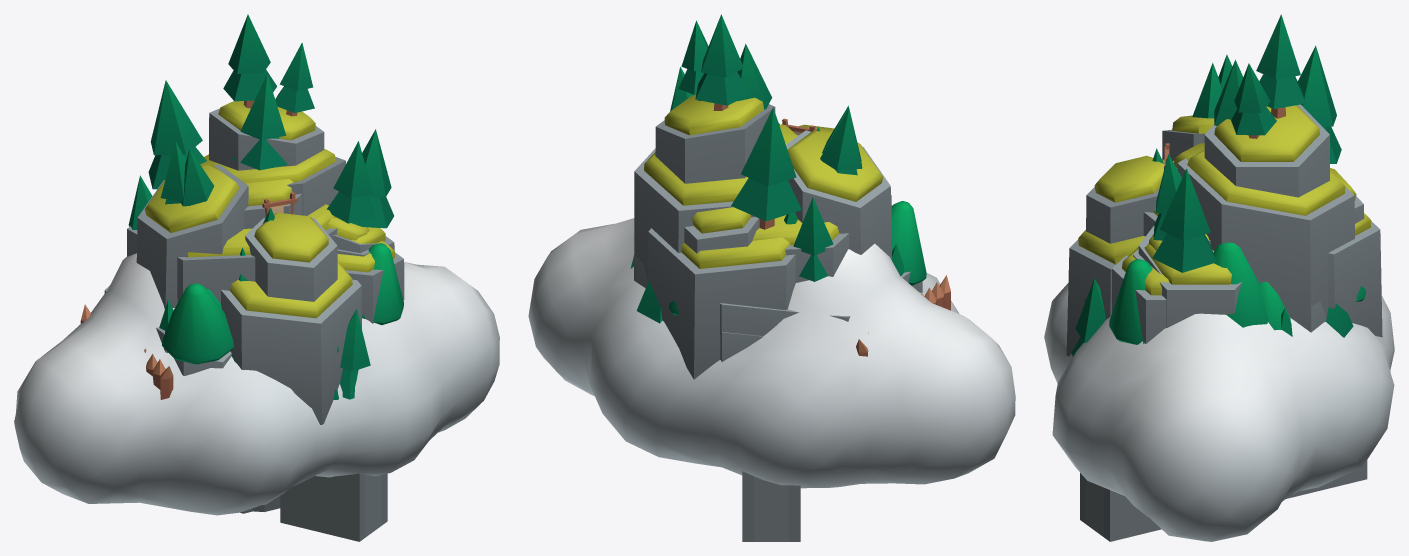
File: props.glb
3 renders of one model, left to right at view 1: azimuth 30°, elevation 25°; view 2: azimuth 150°, elevation 25°; view 3: azimuth 270°, elevation 25°, orthographic. The views are drawn at different scales.
Visible parts, largest first — view 1: cloud_big, mountain_C_grass, mountain_B_grass_trees, mountain_A_grass_trees, building_bridge_A, trees_B_large, trees_A_large, fence_wood_straight; view 2: cloud_big, mountain_C_grass, mountain_B_grass_trees, mountain_A_grass_trees, building_bridge_A, trees_B_large, trees_A_large, fence_wood_straight; view 3: cloud_big, mountain_B_grass_trees, mountain_C_grass, mountain_A_grass_trees, building_bridge_A, trees_B_large, trees_B_medium, trees_A_large.
Boxes of the visible parts, x1=… form: cloud_big: x1=14, y1=253, x2=499, y2=515; mountain_C_grass: x1=136, y1=164, x2=377, y2=424; mountain_B_grass_trees: x1=104, y1=14, x2=394, y2=352; mountain_A_grass_trees: x1=127, y1=74, x2=404, y2=323; building_bridge_A: x1=240, y1=473, x2=387, y2=541; trees_B_large: x1=162, y1=243, x2=403, y2=364; trees_A_large: x1=159, y1=300, x2=370, y2=399; fence_wood_straight: x1=80, y1=304, x2=173, y2=399; cloud_big: x1=528, y1=218, x2=1015, y2=488; mountain_C_grass: x1=648, y1=124, x2=922, y2=379; mountain_B_grass_trees: x1=634, y1=14, x2=910, y2=360; mountain_A_grass_trees: x1=634, y1=43, x2=891, y2=361; building_bridge_A: x1=742, y1=471, x2=800, y2=541; trees_B_large: x1=891, y1=201, x2=926, y2=285; trees_A_large: x1=630, y1=244, x2=904, y2=323; fence_wood_straight: x1=856, y1=275, x2=950, y2=356; cloud_big: x1=1044, y1=283, x2=1394, y2=541; mountain_B_grass_trees: x1=1133, y1=14, x2=1354, y2=332; mountain_C_grass: x1=1066, y1=115, x2=1382, y2=356; mountain_A_grass_trees: x1=1112, y1=45, x2=1341, y2=343; building_bridge_A: x1=1080, y1=460, x2=1367, y2=541; trees_B_large: x1=1084, y1=259, x2=1290, y2=344; trees_B_medium: x1=1213, y1=242, x2=1365, y2=327; trees_A_large: x1=1071, y1=278, x2=1353, y2=356.
Size of the model in its own units: 3.61 by 3.5 by 2.24.
1 material, 1 textured.
